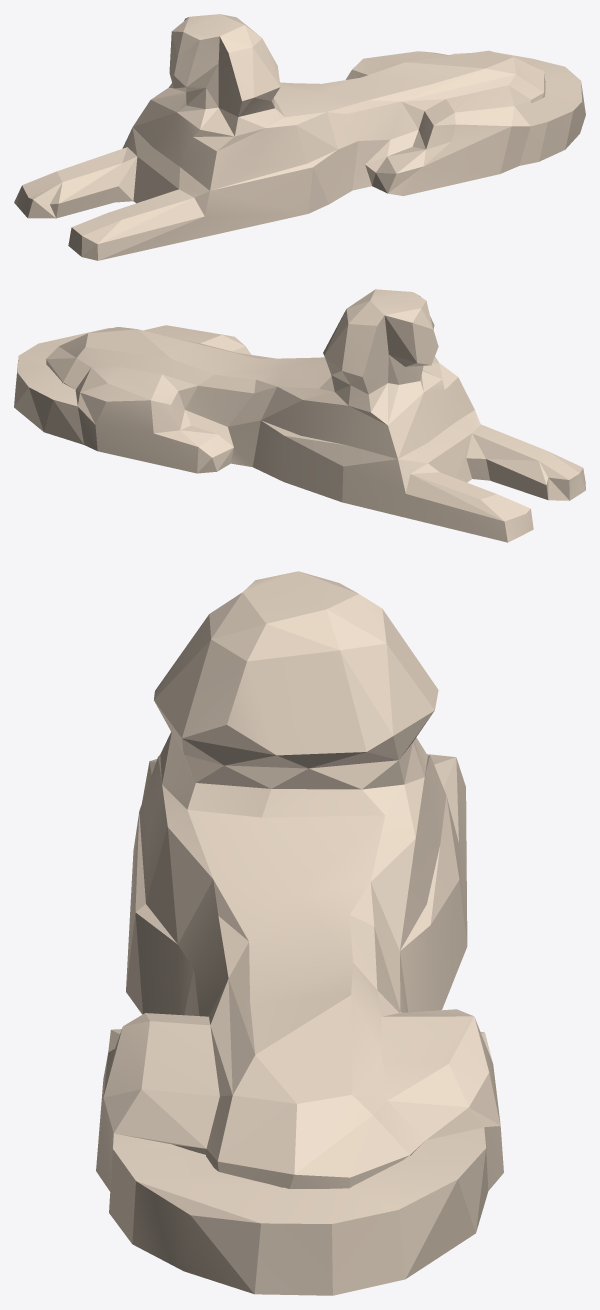
File: Sphinx_Shattered.fbx
3 renders of one model, top to bottom at view 1: azimuth 30°, elevation 25°; view 2: azimuth 150°, elevation 25°; view 3: azimuth 270°, elevation 25°, orthographic. The views are drawn at different scales.
Parts seen in each view (by area): view 1: Sphinx_shard51, Sphinx_shard49, Sphinx_shard10, Sphinx_shard44, Sphinx_shard29, Sphinx_shard38, Sphinx_shard23, Sphinx_shard52, Sphinx_shard50, Sphinx_shard28, Sphinx_shard48, Sphinx_shard57 (+22 smaller); view 2: Sphinx_shard50, Sphinx_shard27, Sphinx_shard22, Sphinx_shard41, Sphinx_shard42, Sphinx_shard57, Sphinx_shard26, Sphinx_shard45, Sphinx_shard51, Sphinx_shard49, Sphinx_shard17, Sphinx_shard52 (+13 smaller); view 3: Sphinx_shard45, Sphinx_shard17, Sphinx_shard41, Sphinx_shard8, Sphinx_shard10, Sphinx_shard22, Sphinx_shard26, Sphinx_shard28, Sphinx_shard44, Sphinx_shard33, Sphinx_shard12, Sphinx_shard37 (+21 smaller).
Boxes of the visible parts, x1,y1,x2,y2 form: Sphinx_shard51: (169,22,251,131); Sphinx_shard49: (148,127,244,221); Sphinx_shard10: (466,70,545,135); Sphinx_shard44: (210,86,295,177); Sphinx_shard29: (350,125,443,195); Sphinx_shard38: (249,143,314,221); Sphinx_shard23: (398,67,474,136); Sphinx_shard52: (102,195,192,253); Sphinx_shard50: (101,83,185,190); Sphinx_shard28: (303,83,400,139); Sphinx_shard48: (186,176,271,240); Sphinx_shard57: (14,156,117,216); Sphinx_shard50: (352,369,448,522); Sphinx_shard27: (132,386,270,473); Sphinx_shard22: (41,368,136,455); Sphinx_shard41: (269,364,393,432); Sphinx_shard42: (263,430,355,500); Sphinx_shard57: (428,476,532,542); Sphinx_shard26: (137,342,242,405); Sphinx_shard45: (323,289,413,373); Sphinx_shard51: (374,292,442,396); Sphinx_shard49: (433,367,495,482); Sphinx_shard17: (48,328,160,379); Sphinx_shard52: (468,430,566,483); Sphinx_shard45: (174,585,435,760); Sphinx_shard17: (245,1024,401,1181); Sphinx_shard41: (283,694,437,948); Sphinx_shard8: (236,1181,413,1295); Sphinx_shard10: (102,1038,262,1177); Sphinx_shard22: (388,1036,503,1222); Sphinx_shard26: (226,936,434,1041); Sphinx_shard28: (197,888,339,1016); Sphinx_shard44: (142,682,290,847); Sphinx_shard33: (157,868,255,1014); Sphinx_shard12: (111,1138,241,1227); Sphinx_shard37: (214,820,348,894).
Bounding box in the file's own units: 3969 × 1244 × 1332.
